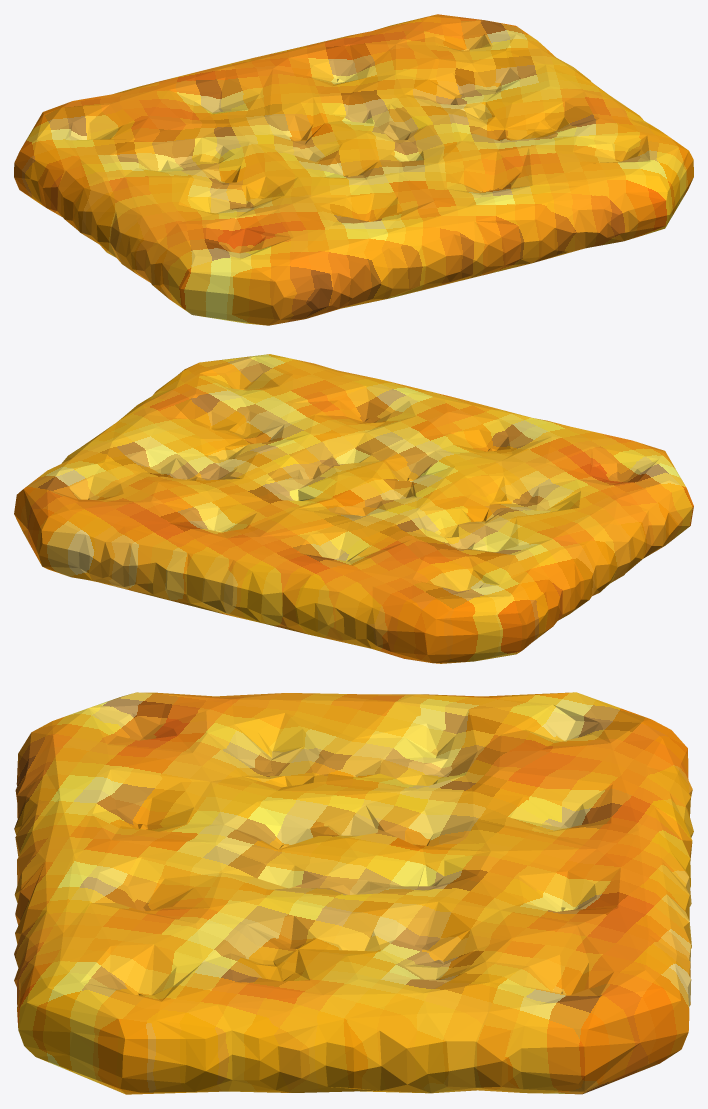
Rendered from BiscuitTUC.fbx.
The picture shows the model from 3 angles, top to bottom: view 1: azimuth 30°, elevation 25°; view 2: azimuth 150°, elevation 25°; view 3: azimuth 270°, elevation 25°; orthographic projection. The views are drawn at different scales.
Parts seen in each view (by area): view 1: Mesh1.0; view 2: Mesh1.0; view 3: Mesh1.0.
Part boxes in pixels (left/top/right/bottom): Mesh1.0: left=14, top=14, right=693, bottom=325; Mesh1.0: left=14, top=354, right=693, bottom=663; Mesh1.0: left=14, top=692, right=693, bottom=1094.
Bounding box in the file's own units: 190 × 25.98 × 157.
